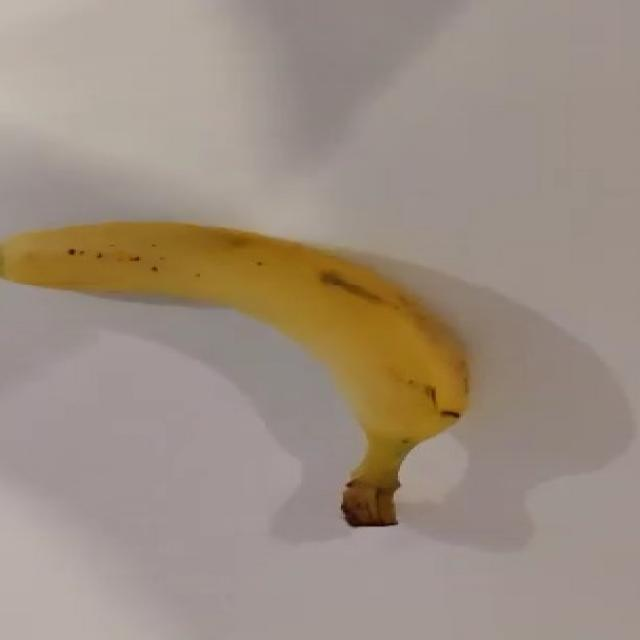Banana: (0, 218, 470, 527)
